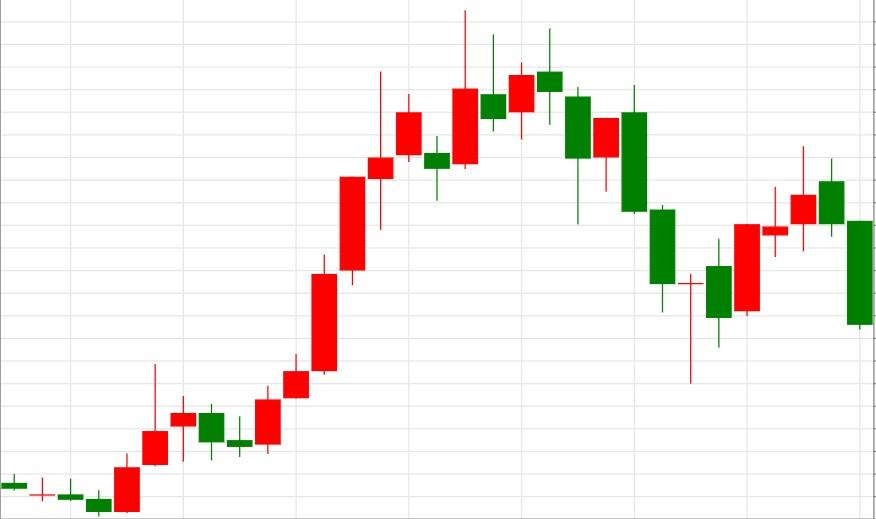bullish_engulfing_rise: (0, 452, 141, 515)
three_white_soldiers_rise: (170, 254, 339, 463)
